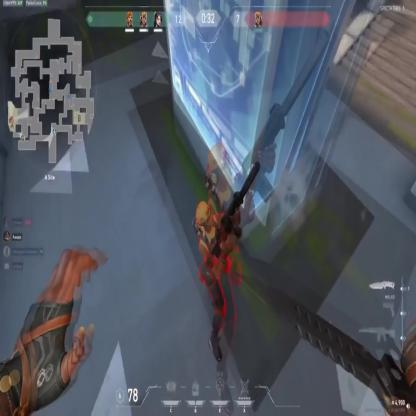enemy: (192, 196, 241, 354)
enemy_head: (195, 200, 213, 230)
